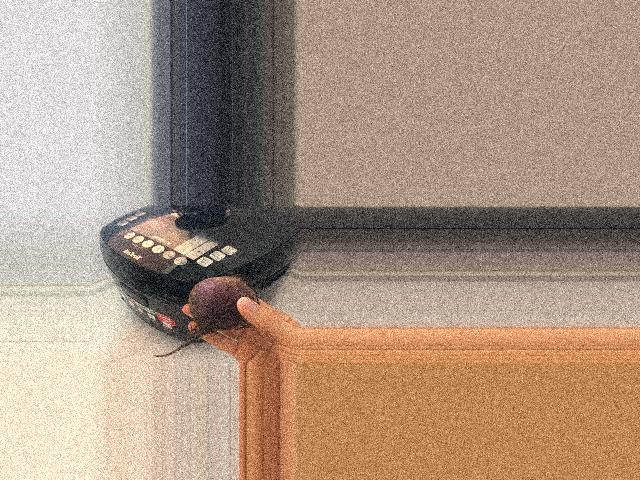beet: (153, 273, 258, 357)
